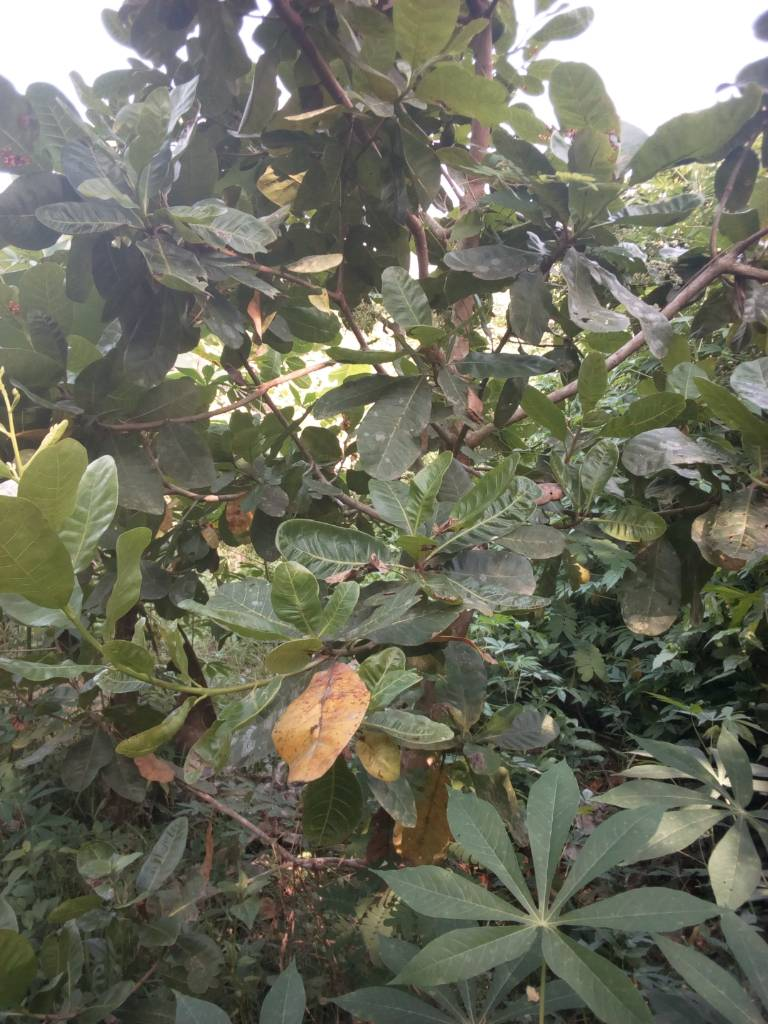Pestalotiose: (272, 660, 372, 780), (721, 496, 765, 563)
